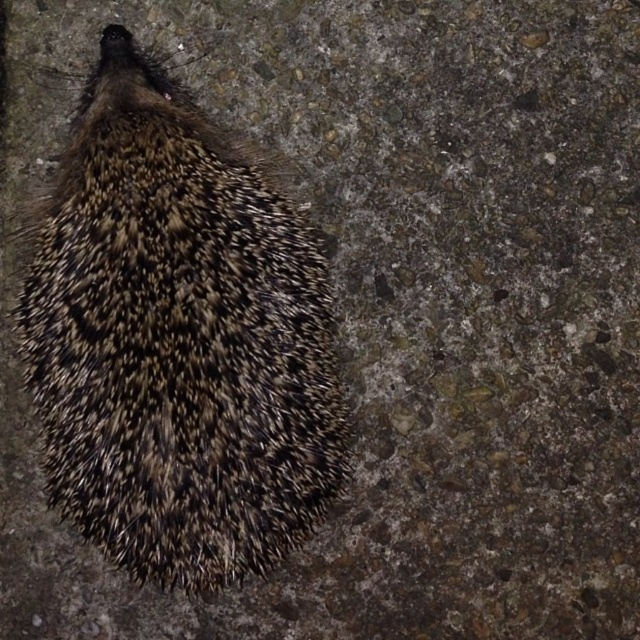Hedgehog: (1, 23, 359, 604)
